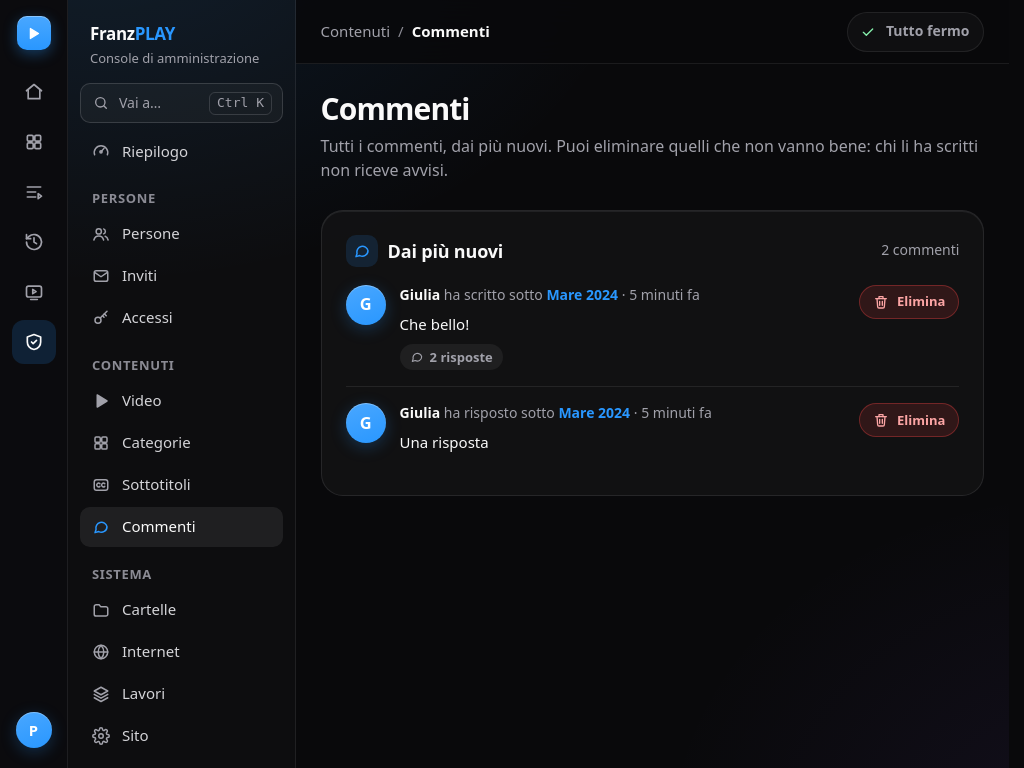
comments page › deletes a comment with its replies after asking
Click the button "Elimina" in the row of "ha scritto sotto". click: (909, 302)
box: x1=859 y1=285 x2=959 y2=319
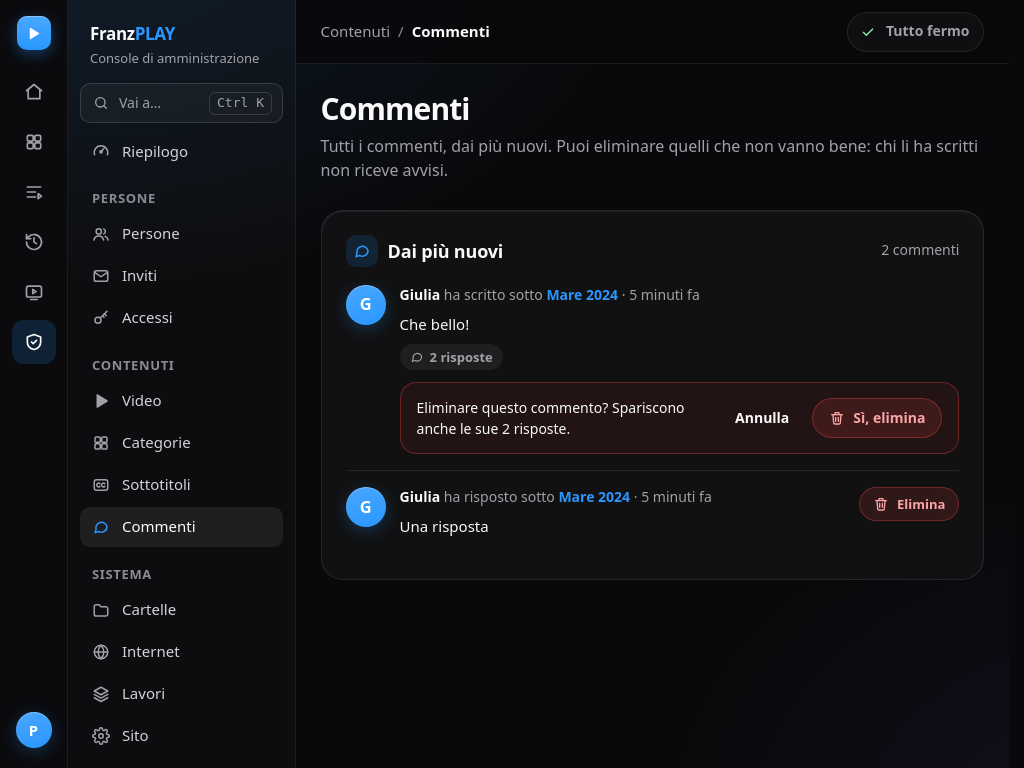
Check: the text "Spariscono anche le sue 2 risposte" is shown, box x1=417 y1=398 x2=685 y2=438
Click the button "Sì, elimina". click: (877, 418)
box: x1=812 y1=398 x2=942 y2=438
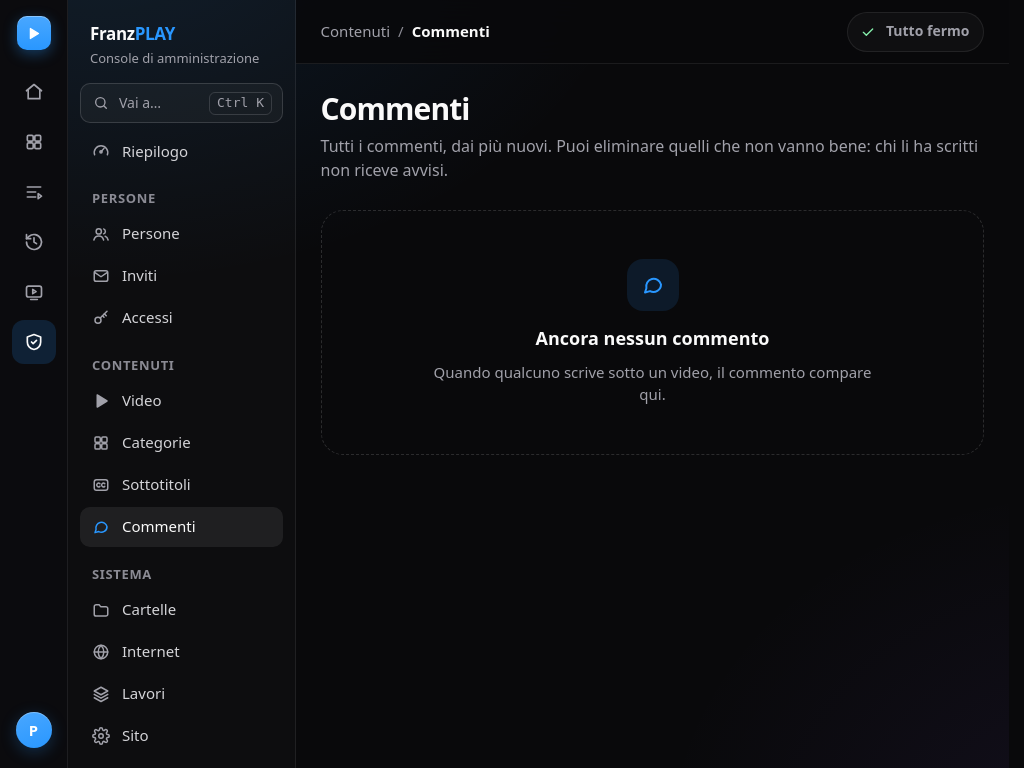
Check: the heading "Ancora nessun commento" is shown, box x1=536 y1=325 x2=770 y2=351
